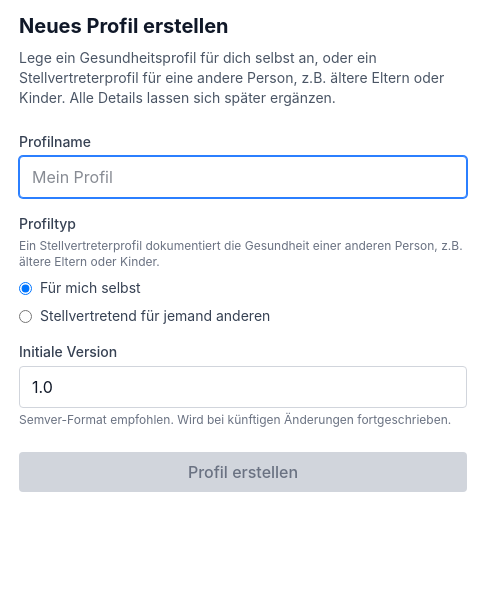
ProfileCreateForm › managedBy field appears when proxy is selected
Click the text "Stellvertretend für jemand anderen" at (145, 316), box [19,307,270,324]
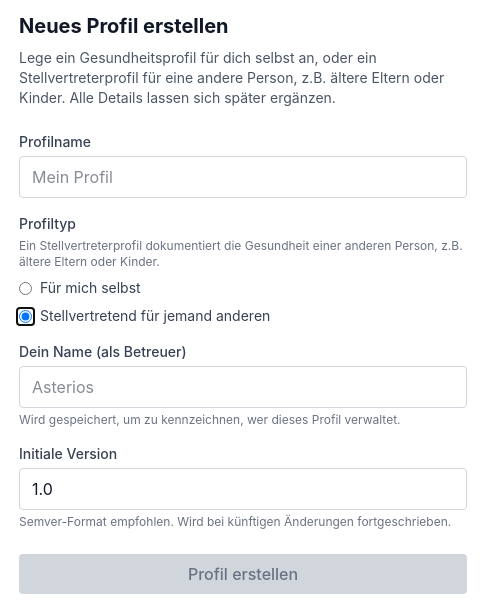
Expected: the field labelled "Dein Name (als Betreuer)" is shown, [19,366,467,408]
